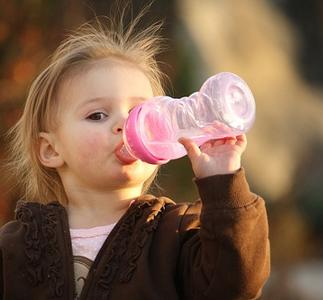person: (1, 40, 273, 300)
